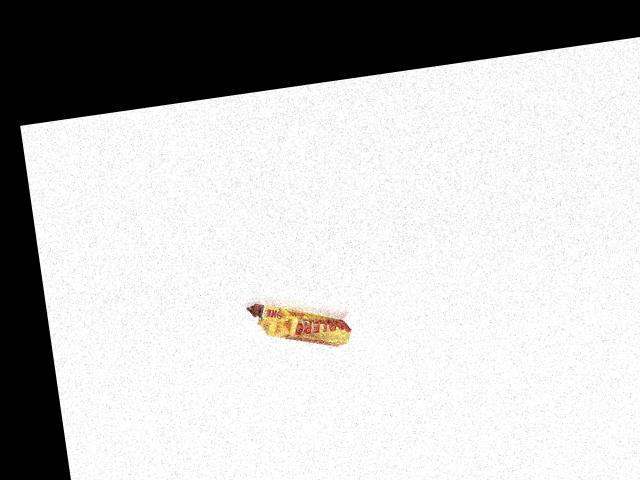chocolate: (245, 286, 352, 360)
